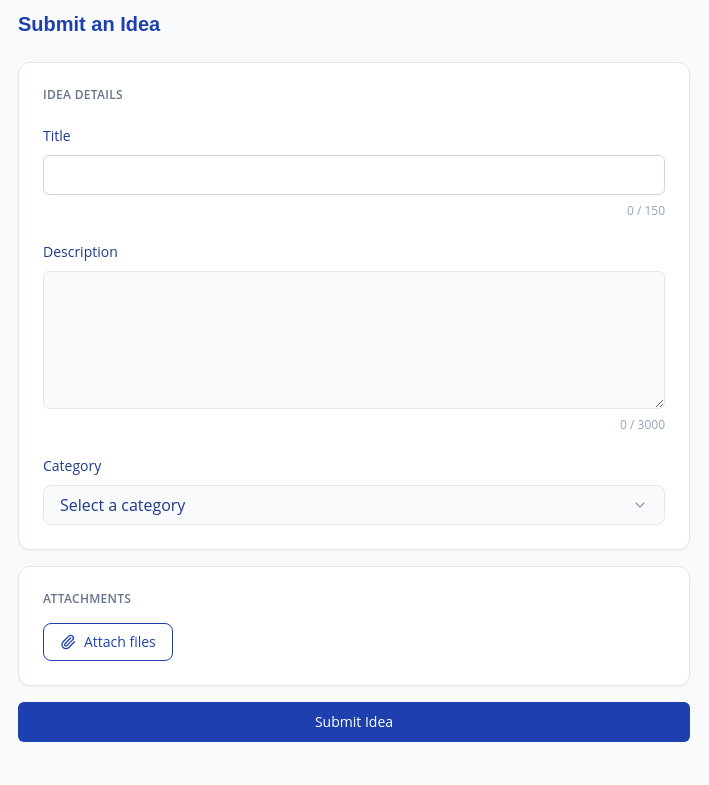
Test case: SubmitIdeaPage — category validation (T022) › submitting without a category shows exact message "Please select a category before submitting."
Type "Test" into the field labelled "Title". click: (354, 175)
box: [43,155,665,195]
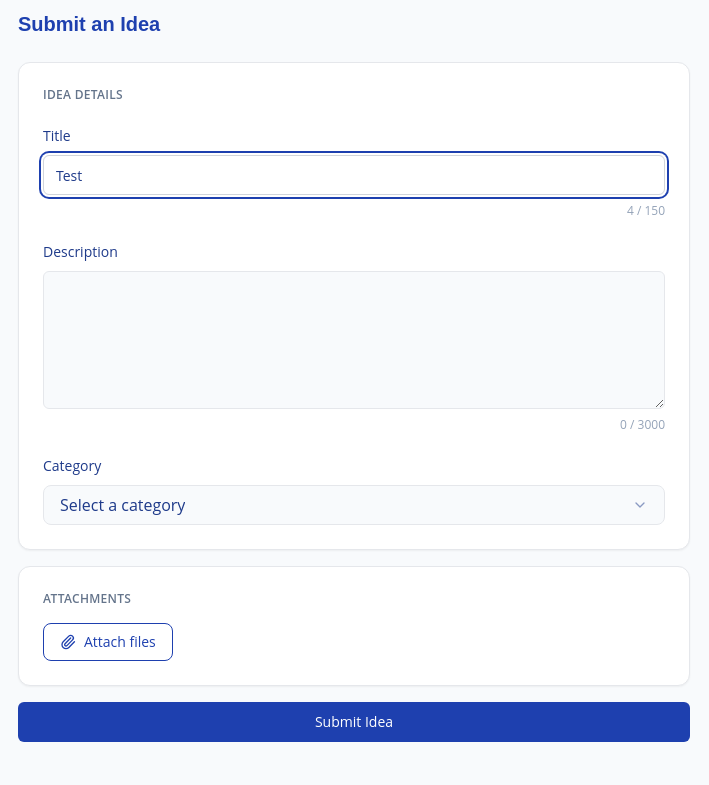
Type "Test desc" into the text box labelled "Description". click: (354, 340)
box: [43,271,665,409]
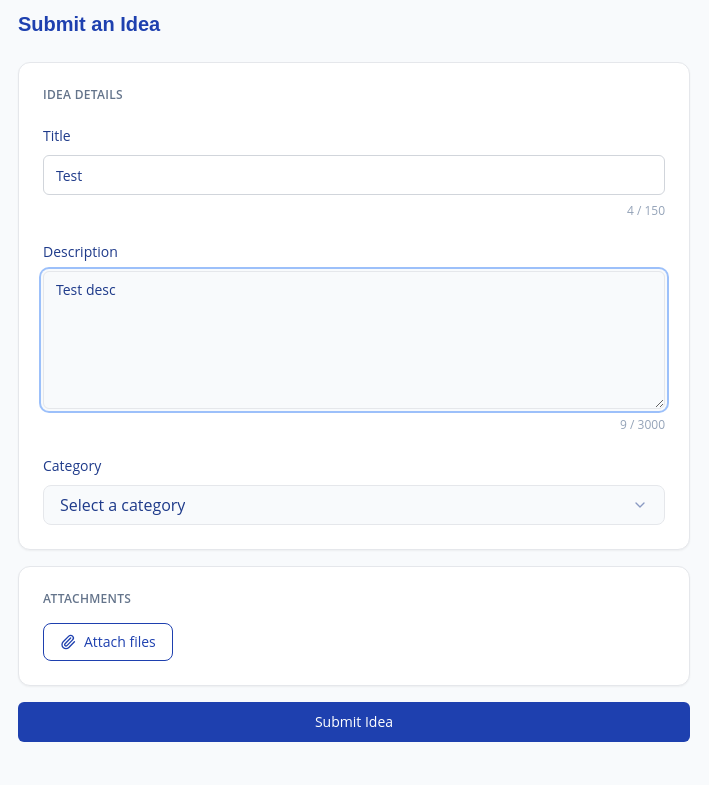
Click the button "Submit Idea". click: (354, 722)
box: [18,702,690,742]
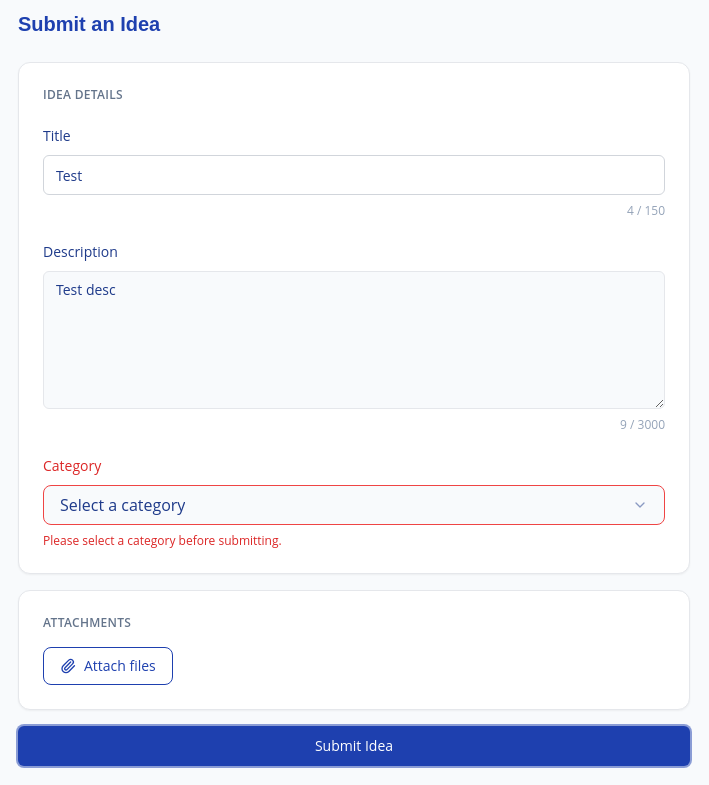
Expected: the text "Please select a category before submitting." is shown, [43,532,282,549]
